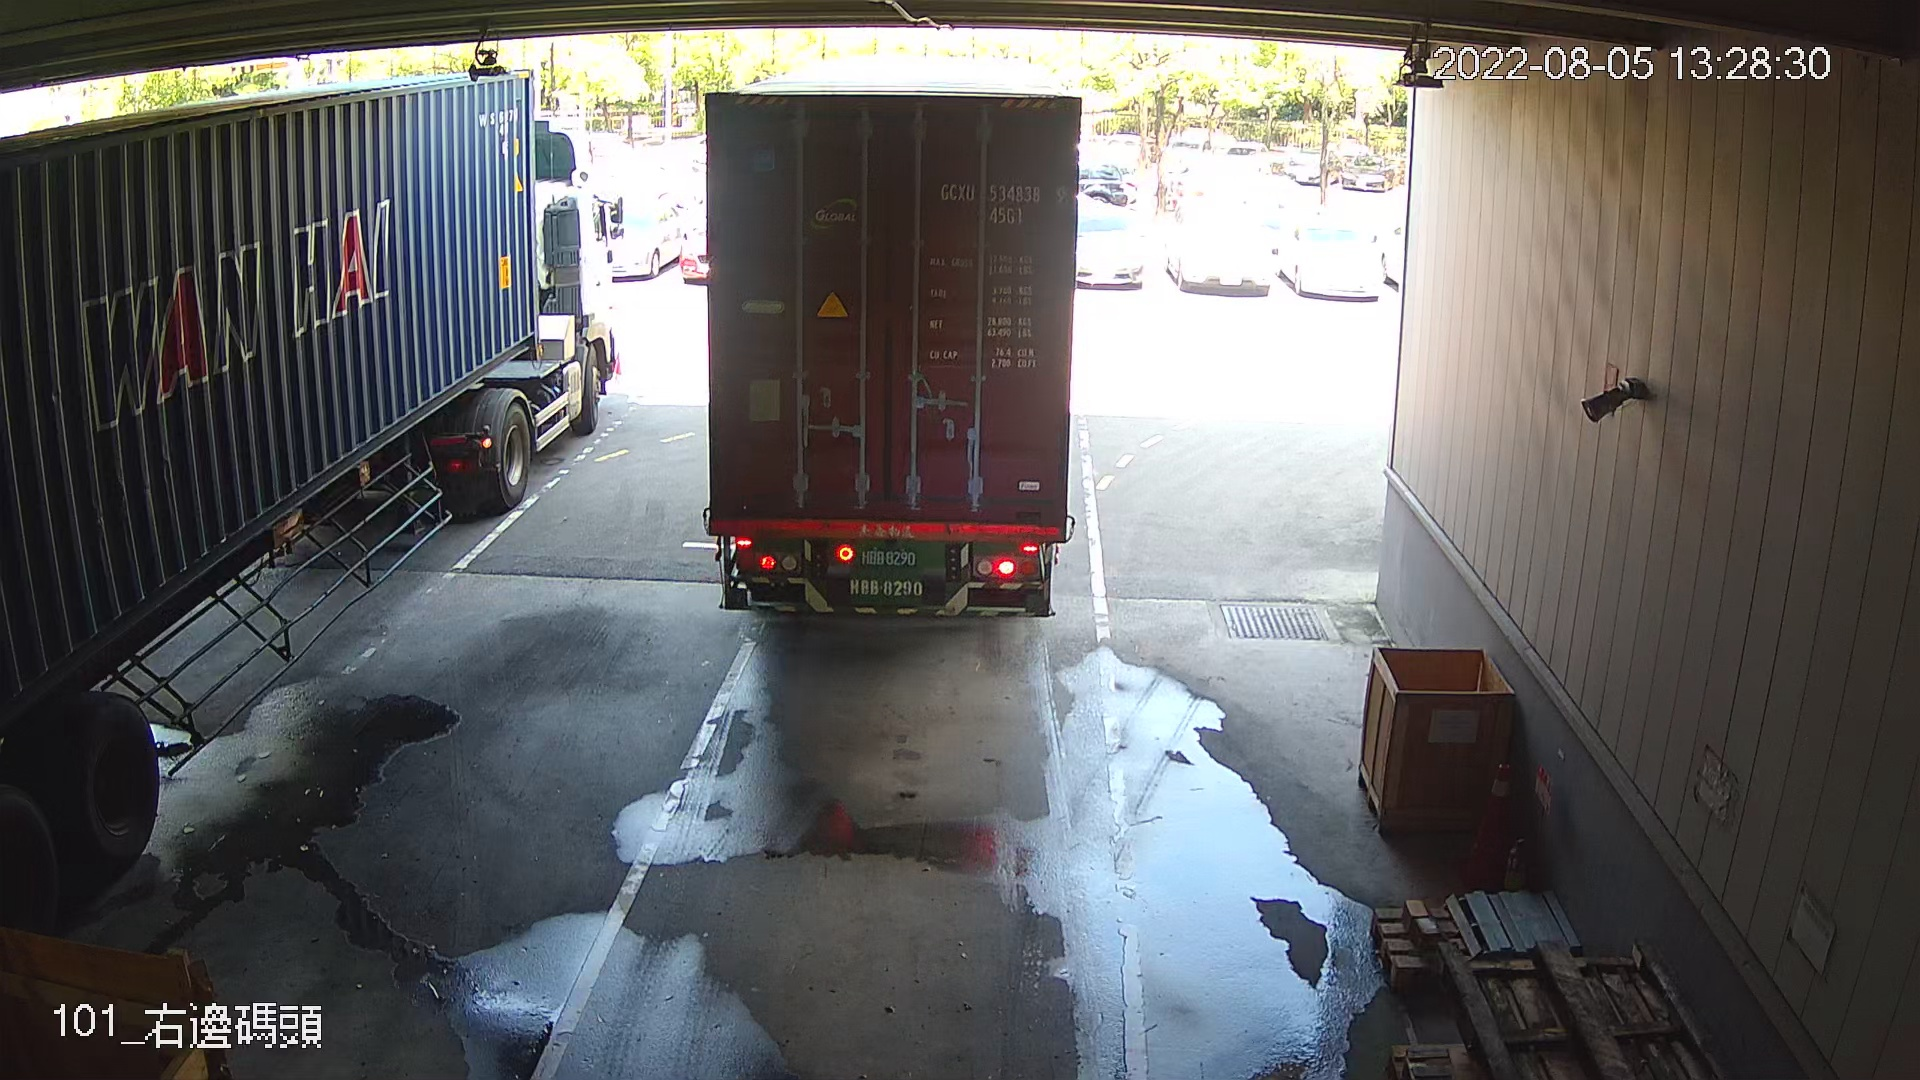container: (932, 170, 1072, 229)
